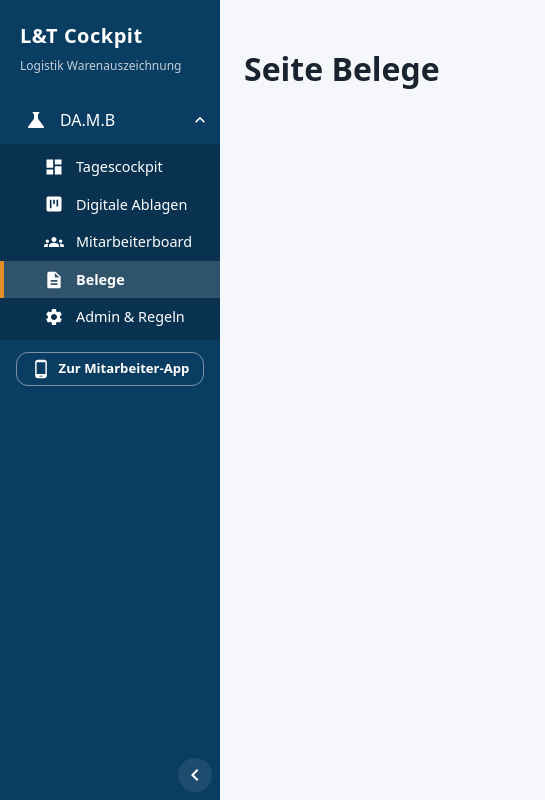
it: AppShell — DA.M.B-Gruppe in der Nav-Rail › Klick auf DA.M.B navigiert ohne die Gruppe anzufassen; ein Sprung auf einen Reiter klappt sie auf
This screenshot has width=545, height=800.
Click the link "DA.M.B". click: (70, 120)
box: [24,108,115,132]
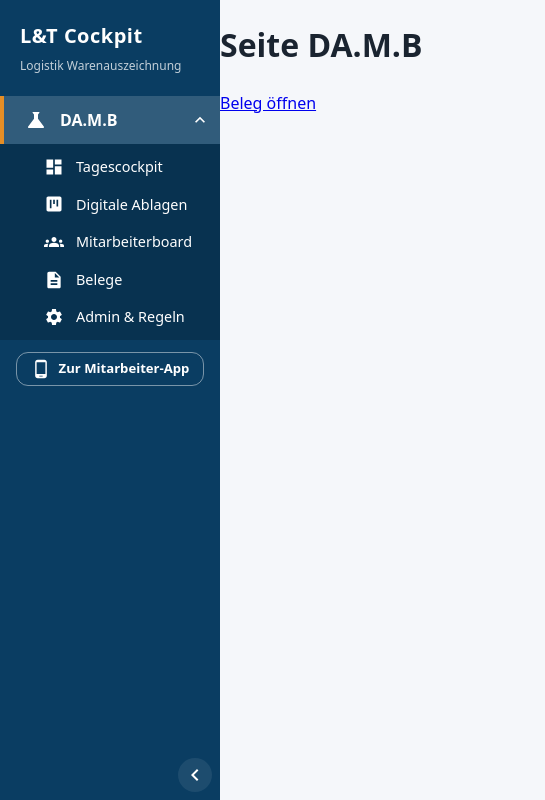
Expected: the link "Belege" is shown, [44,270,122,290]
Expected: the heading "Seite DA.M.B" is shown, [220,23,422,66]
Click the button named "Reiter einklappen". click: (200, 120)
box: [188,108,212,132]
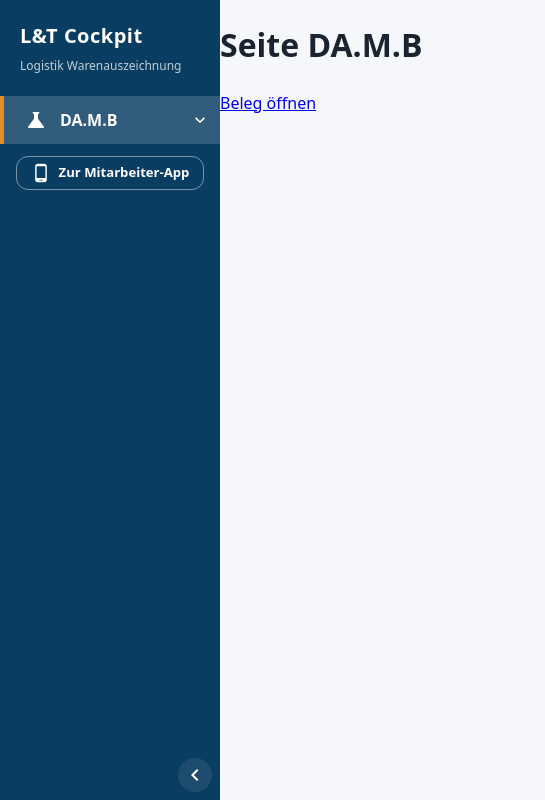
Expected: the link "Belege" is gone
Click the link "Beleg öffnen". click: (268, 103)
box: [220,92,316,114]
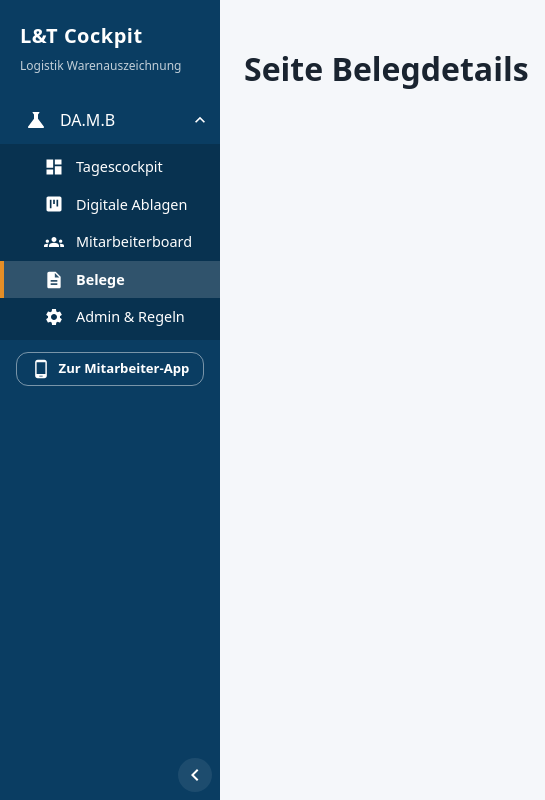
Expected: the heading "Seite Belegdetails" is shown, [244,47,529,90]
